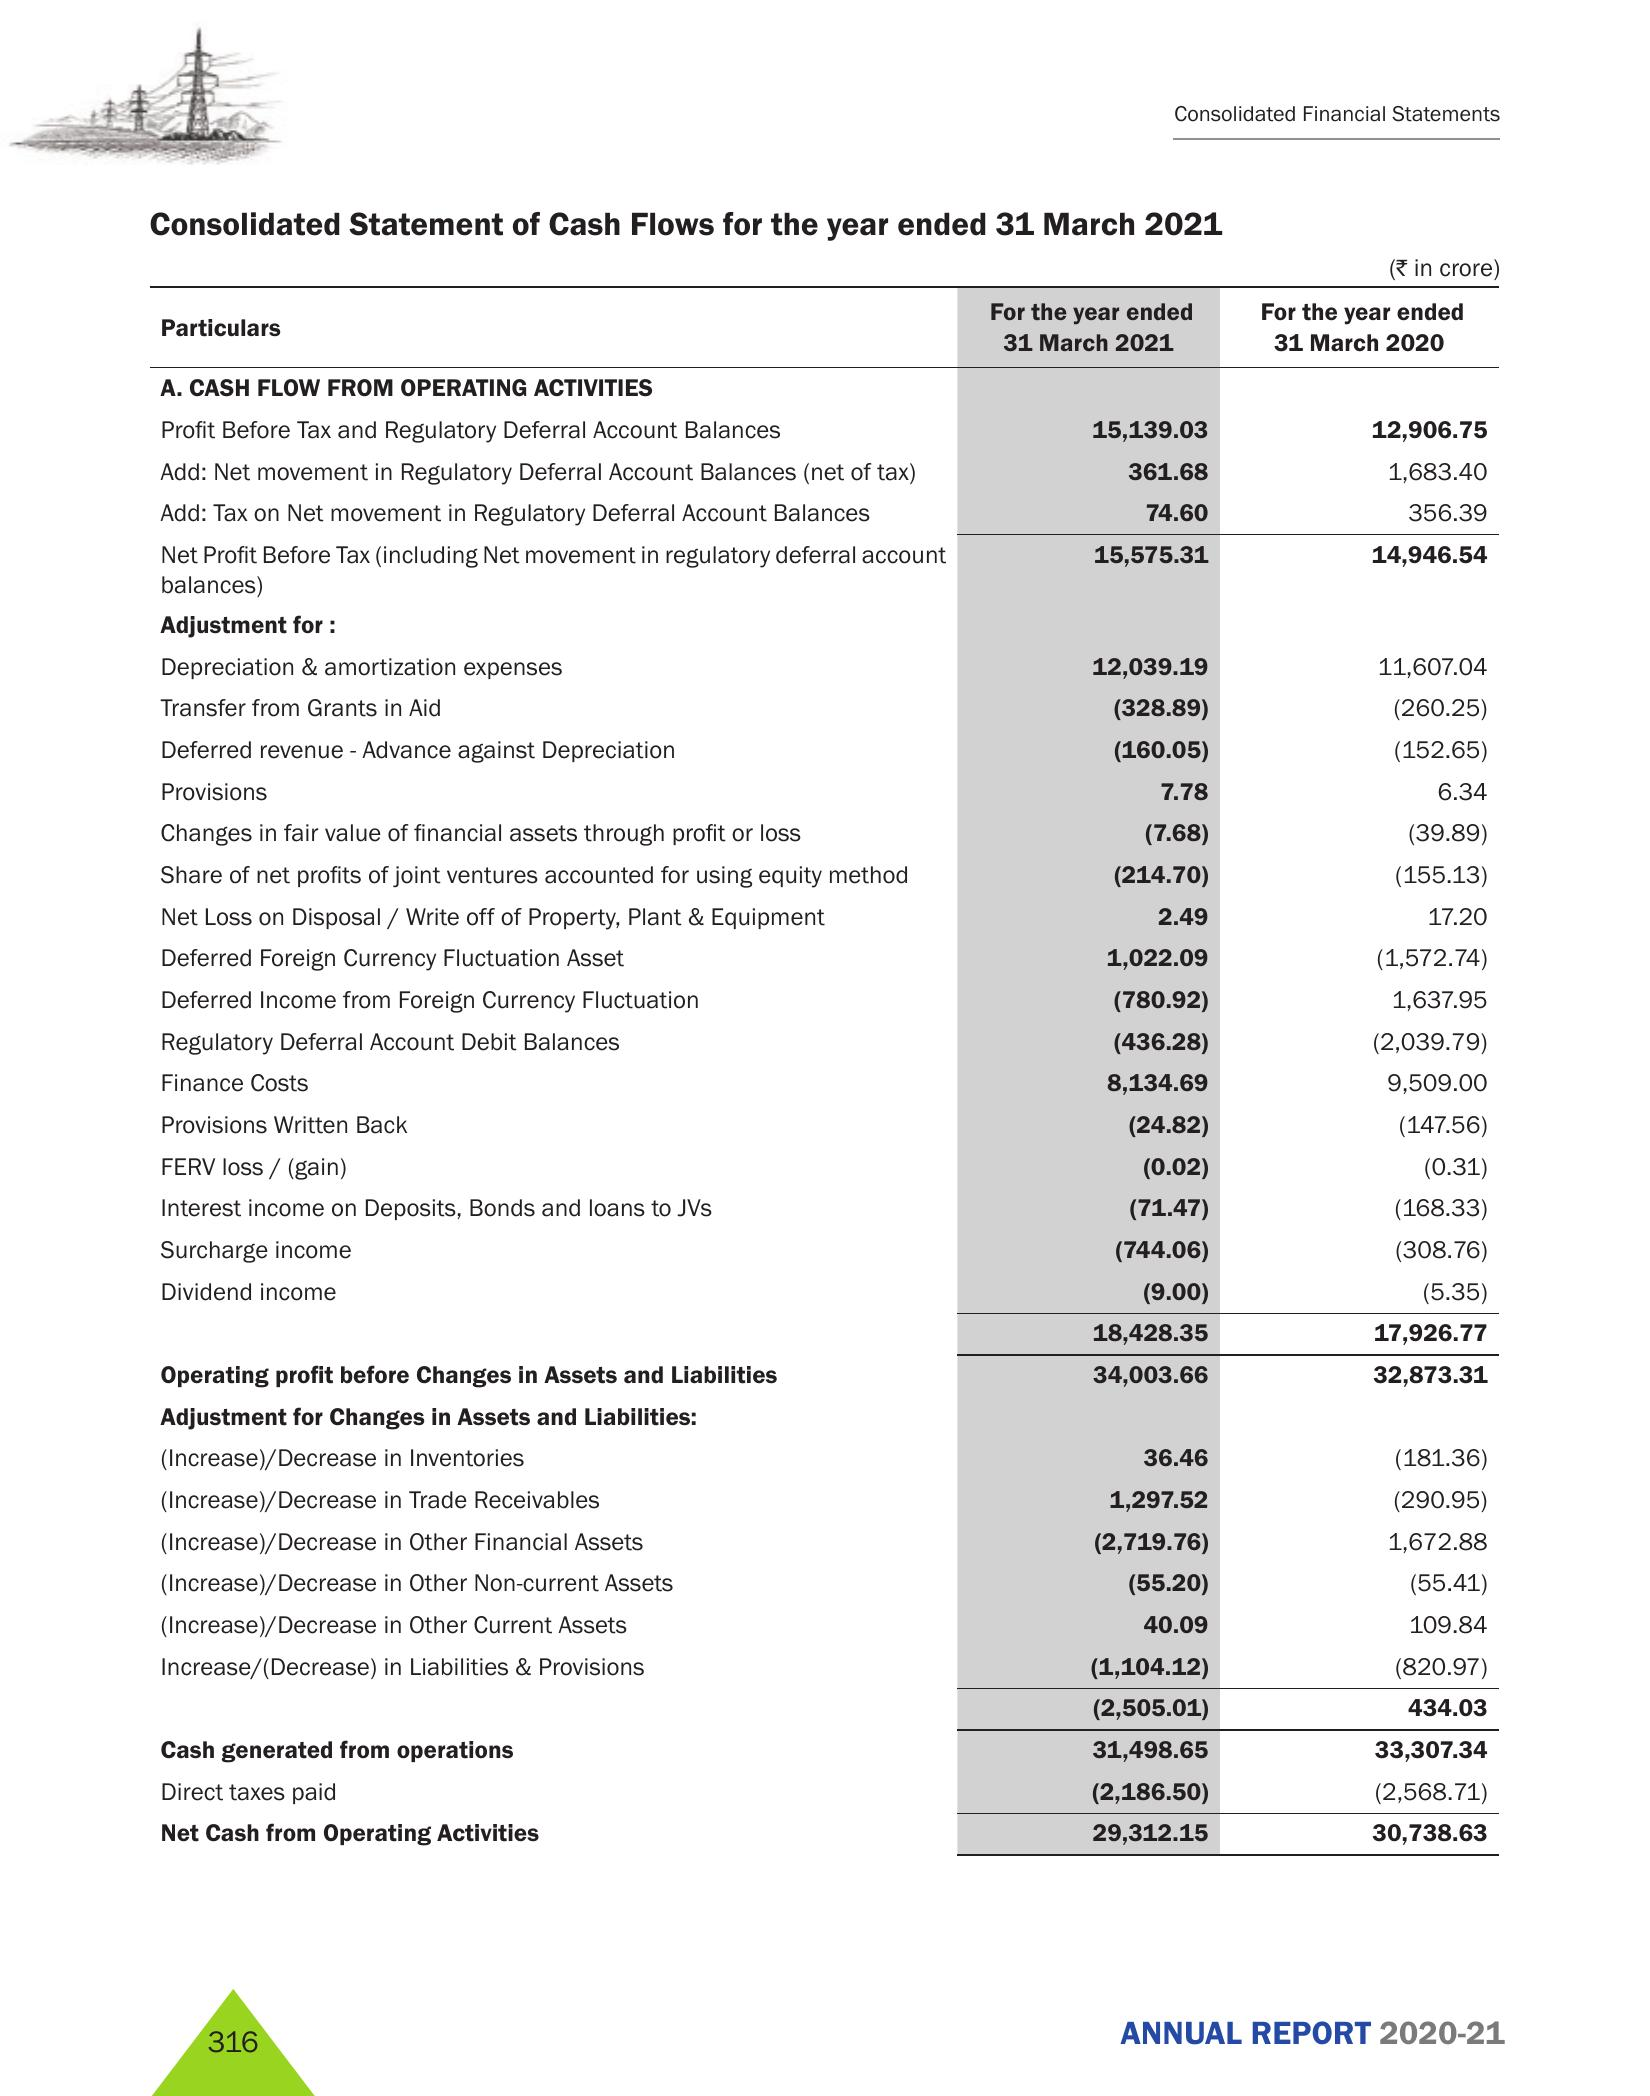Footer: (0, 1945, 1650, 2096)
Header: (0, 0, 1650, 175)
Table: (126, 286, 1507, 1851)
